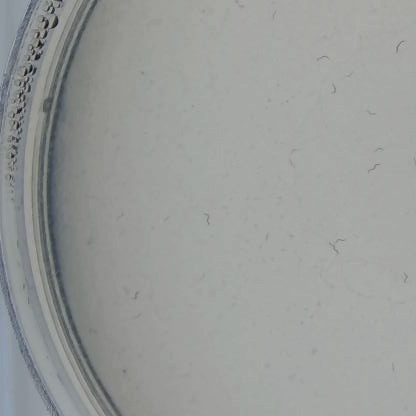worm: (282, 145, 304, 176), (323, 234, 348, 258), (389, 34, 413, 57), (395, 266, 409, 301), (265, 2, 280, 30), (311, 51, 331, 71), (361, 160, 382, 179), (366, 141, 386, 160), (123, 287, 142, 306), (198, 209, 212, 232), (365, 99, 380, 120), (403, 154, 416, 176), (383, 360, 398, 379), (228, 0, 245, 15), (325, 82, 338, 101)
